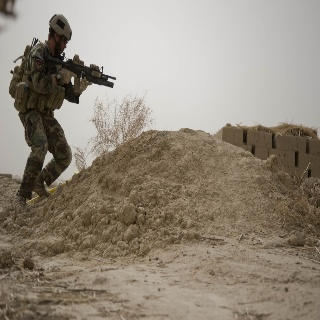rifle: (41, 50, 119, 105)
